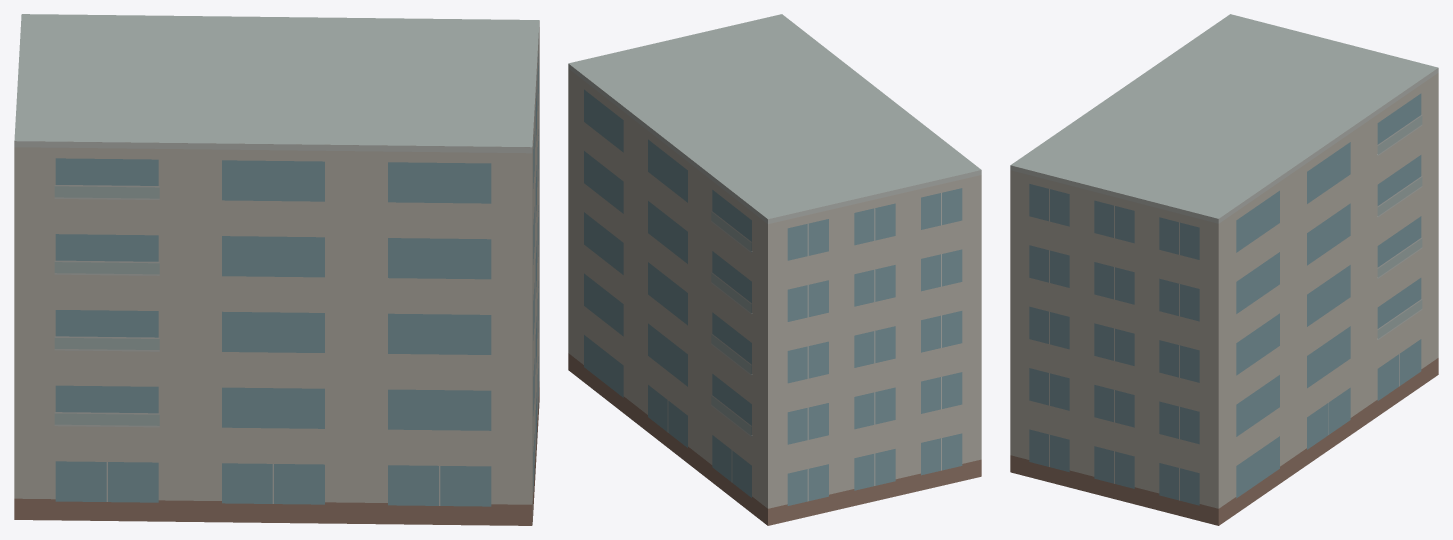
File: survey-upis-32795859.glb
3 views of the same model, side by side, from view 1: azimuth 30°, elevation 25°; view 2: azimuth 150°, elevation 25°; view 3: azimuth 270°, elevation 25° (orthographic). The views are drawn at different scales.
Parts seen in each view (by area): view 1: survey-upis-32795859.tmp; view 2: survey-upis-32795859.tmp; view 3: survey-upis-32795859.tmp.
Part boxes in pixels (x1,y1,x2,y2): survey-upis-32795859.tmp: (14, 14, 539, 525); survey-upis-32795859.tmp: (568, 14, 981, 525); survey-upis-32795859.tmp: (1010, 14, 1438, 525).
Size of the model in its own units: 21.76 by 15.2 by 19.22.
